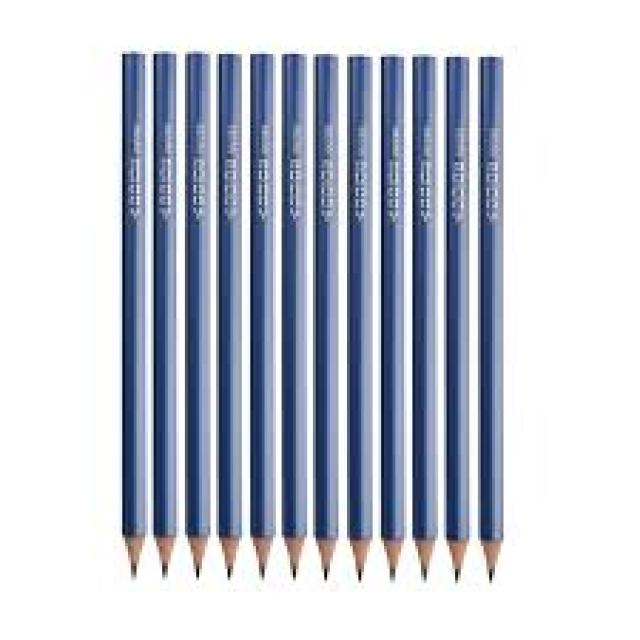pencil: (115, 50, 154, 588), (212, 49, 250, 587), (407, 53, 445, 589), (472, 53, 508, 594), (441, 55, 477, 589), (341, 52, 376, 583), (181, 45, 215, 588), (376, 52, 410, 584), (151, 48, 183, 585), (280, 50, 312, 584), (312, 52, 344, 585), (248, 48, 278, 582)
